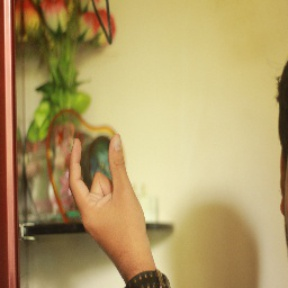U: (66, 132, 153, 251)
